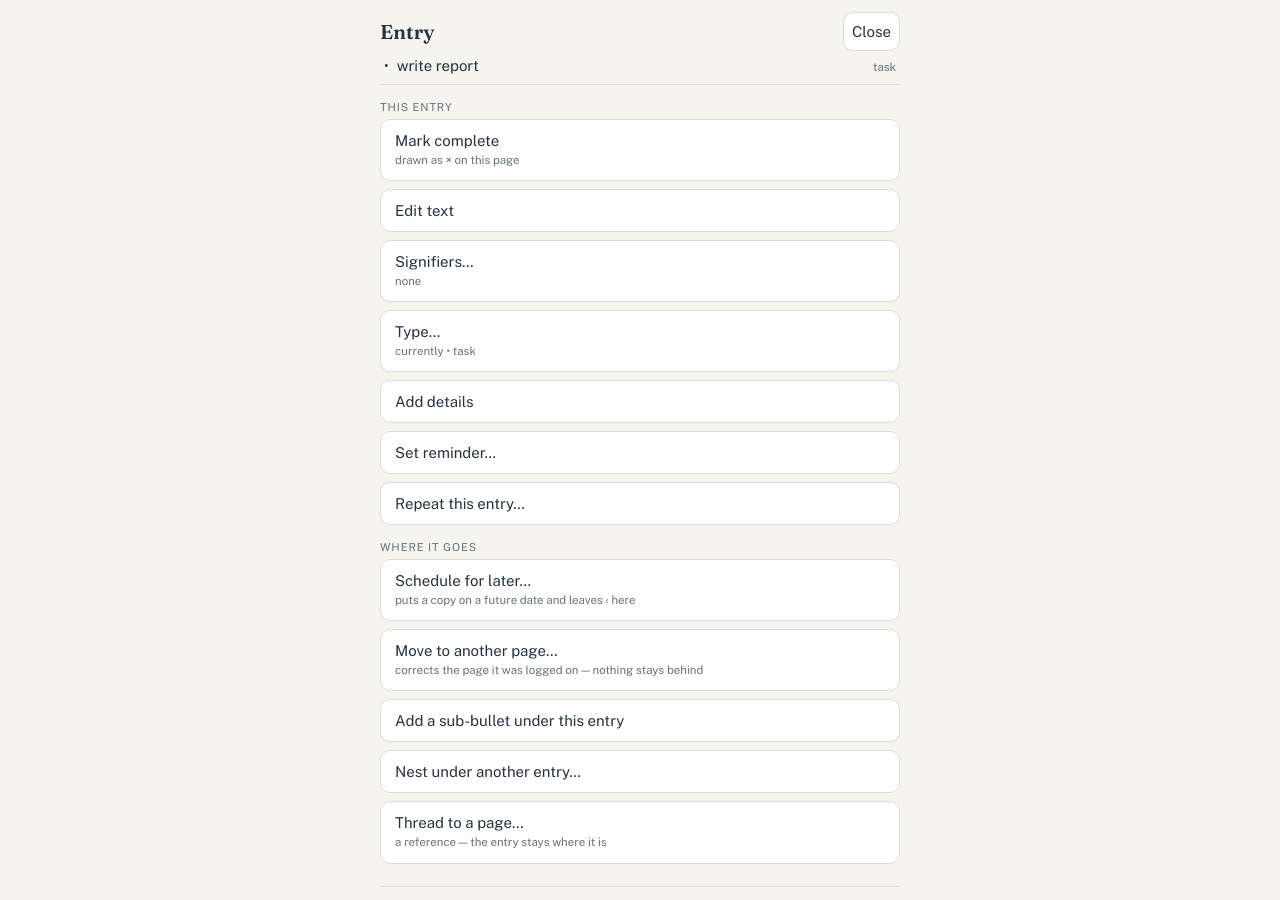
Test: nesting › the picker lists every candidate parent, not just the one above
The width and height of the screenshot is (1280, 900).
What coordinates should you click on to do the following:
click the button "Nest under another entry…"
I would click on:
 (488, 772)
Its box is [380,750,900,794].
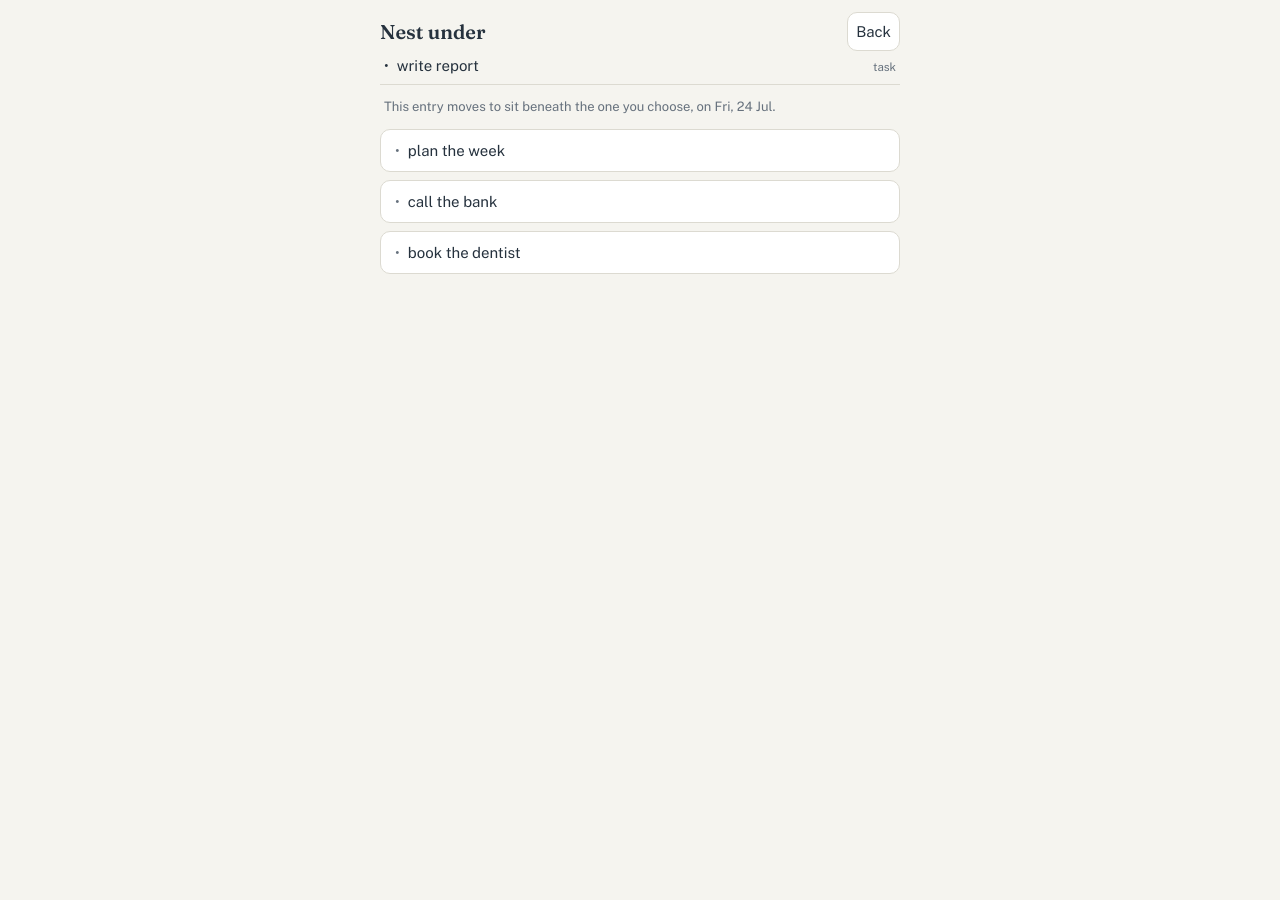
Check: the button with aria-label "Nest under plan the week" is shown, box [380,129,900,172]
Check: the button with aria-label "Nest under book the dentist" is shown, box [380,231,900,274]
